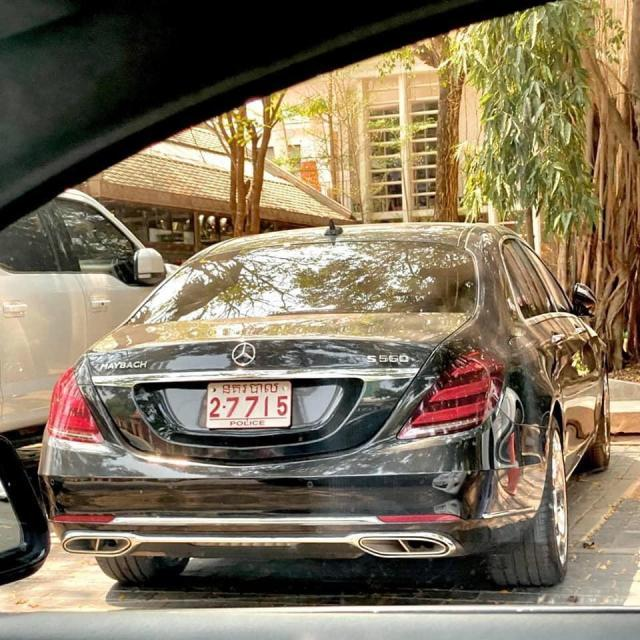Police: (222, 383, 278, 396)
